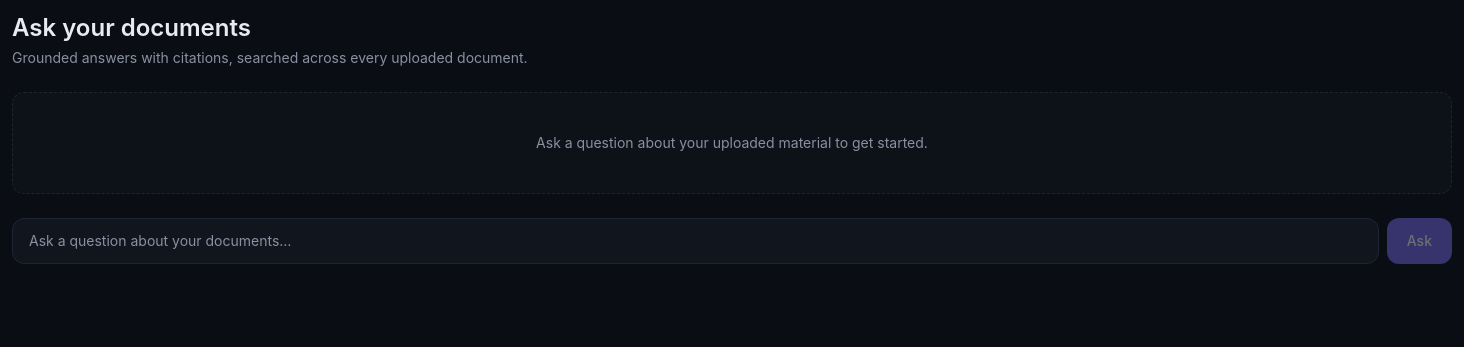
it: API errors render a retryable error state instead of a blank screen
Type "What is photosynthesis?" into the field labelled "Ask a question".
click(695, 241); type("What is photosynthesis?")  # box [12,218,1379,264]
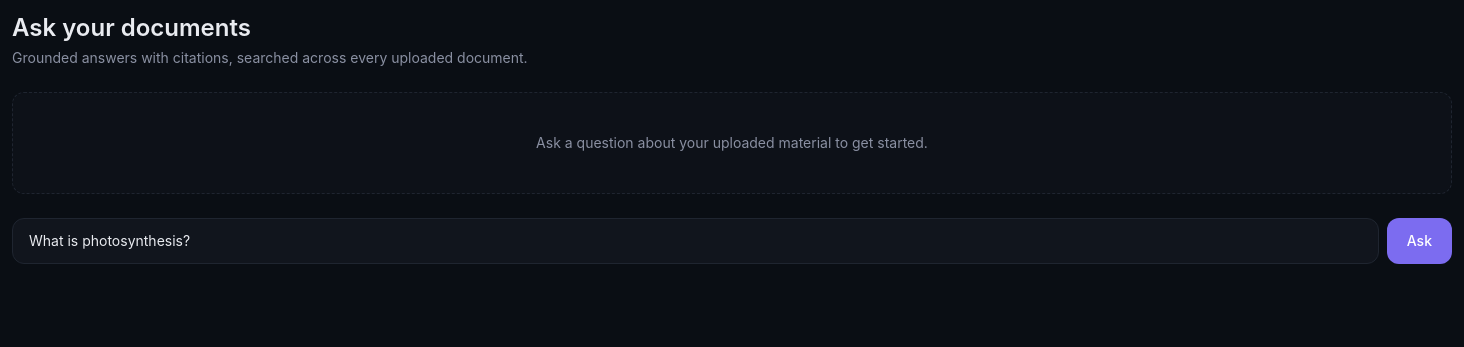
Click the button "Ask".
click(1419, 241)  # box [1387,218,1452,264]
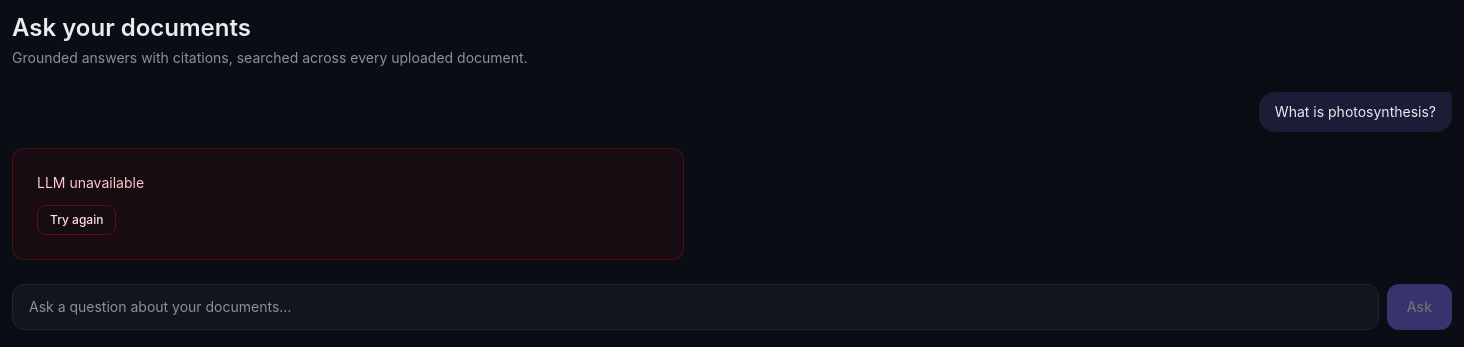
expect the text "LLM unavailable" is shown: met, box [37,174,144,191]
expect the button "Try again" is shown: met, box [37,205,116,235]
